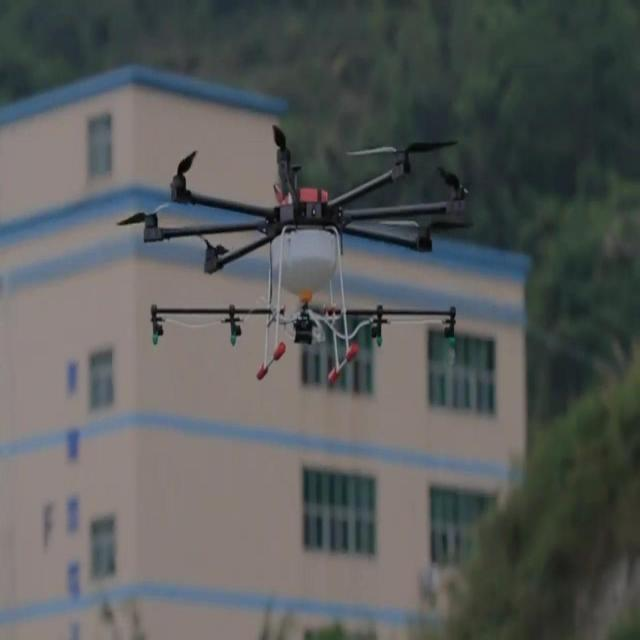UAV: (132, 124, 468, 380)
